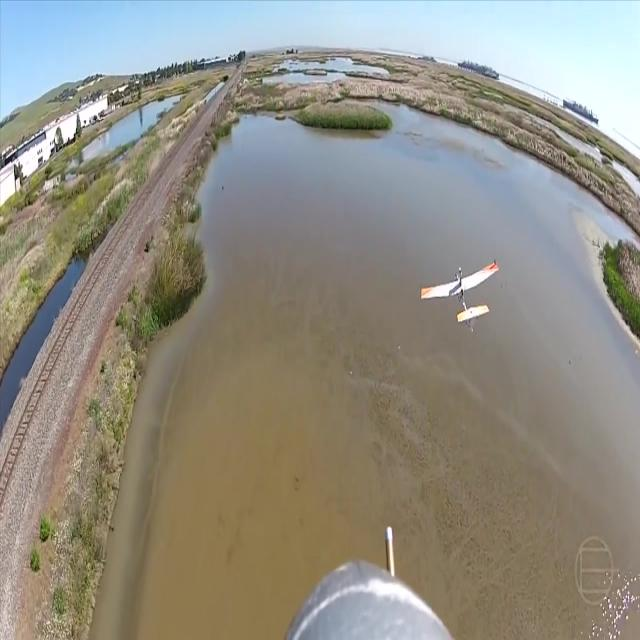iha: (445, 287, 461, 302)
